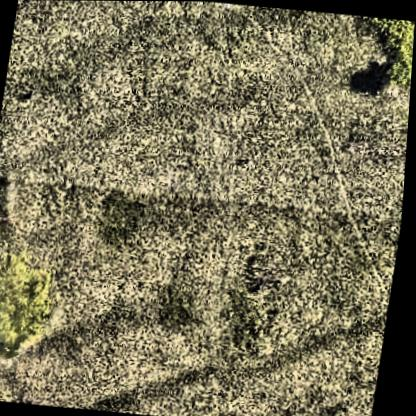tree-top: (0, 250, 69, 364), (350, 16, 415, 89), (0, 166, 23, 226)
